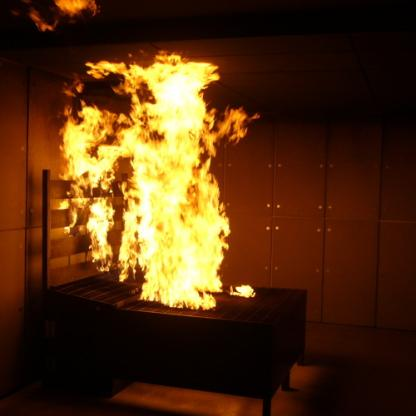fire: (57, 44, 265, 316)
